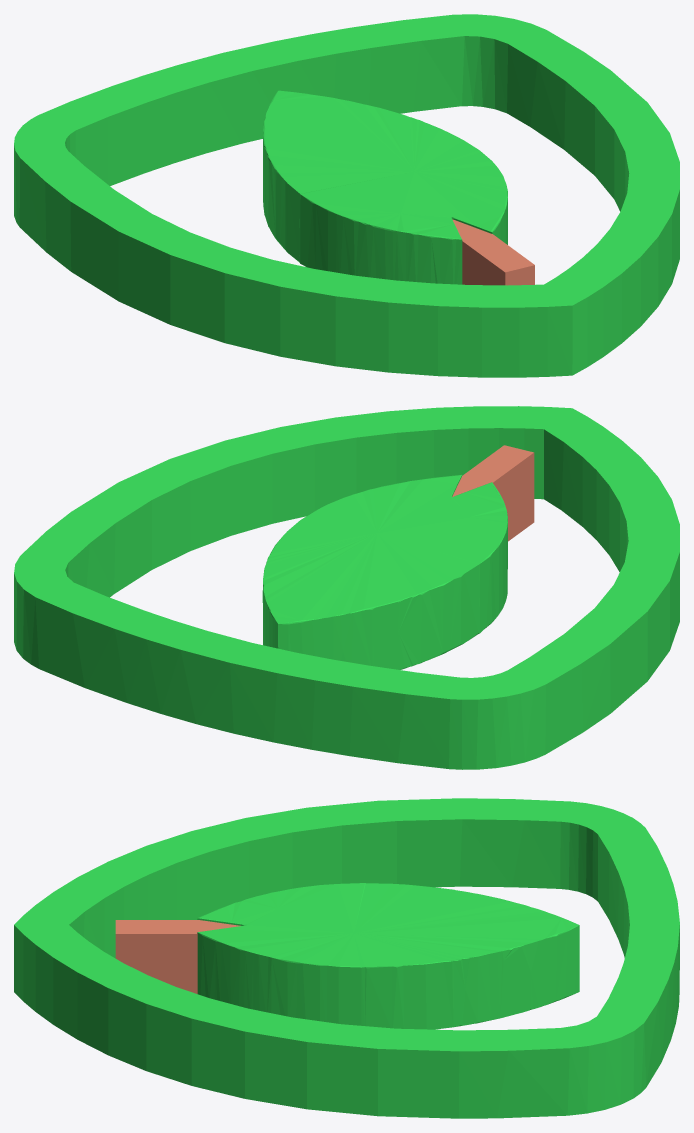
The model's file is mongo-3d.glb.
The picture shows the model from 3 angles, top to bottom: view 1: azimuth 30°, elevation 25°; view 2: azimuth 150°, elevation 25°; view 3: azimuth 270°, elevation 25°; orthographic projection. The views are drawn at different scales.
Parts seen in each view (by area): view 1: Curve.001; view 2: Curve.001; view 3: Curve.001.
Boxes of the visible parts, x1,y1,x2,y2 form: Curve.001: [14, 14, 679, 377]; Curve.001: [14, 406, 679, 769]; Curve.001: [14, 798, 679, 1118].
Size of the model in its own units: 9.14 by 1.17 by 10.16.
